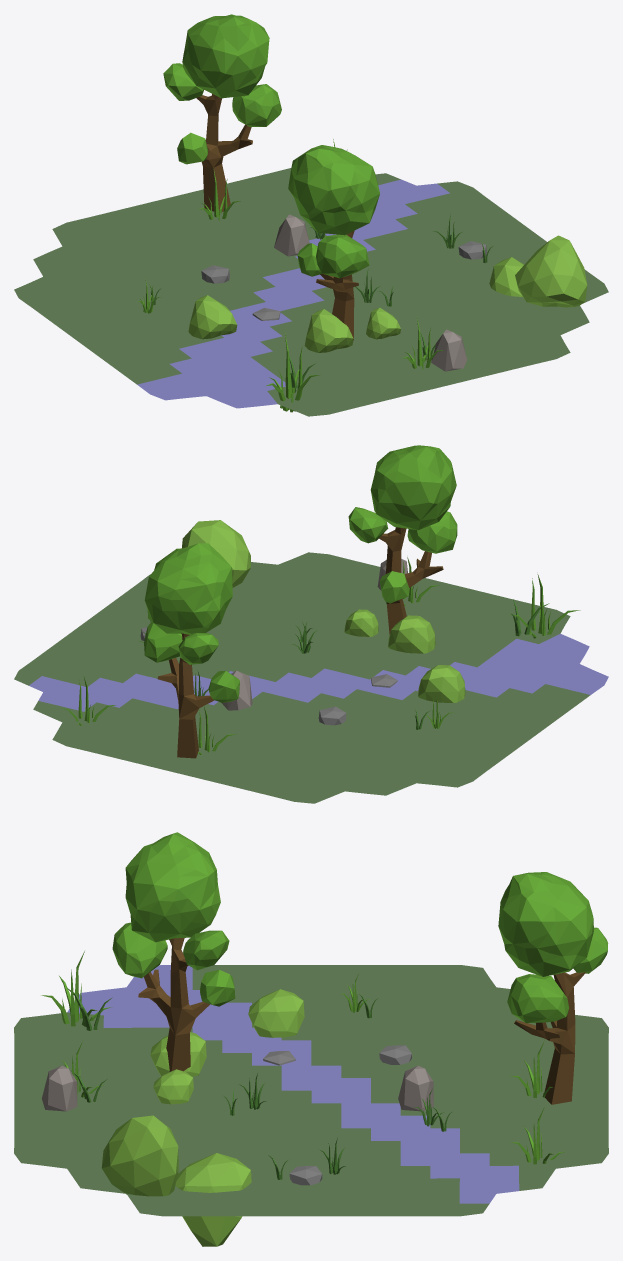
The model's file is Jungle.fbx.
3 renders of one model, top to bottom at view 1: azimuth 30°, elevation 25°; view 2: azimuth 150°, elevation 25°; view 3: azimuth 270°, elevation 25°, orthographic. The views are drawn at different scales.
Visible parts, largest first — view 1: group6; view 2: group6; view 3: group6.
Boxes of the visible parts, x1=… form: group6: x1=14, y1=14, x2=608, y2=416; group6: x1=14, y1=445, x2=608, y2=803; group6: x1=14, y1=832, x2=608, y2=1246.
Bounding box in the file's own units: 50.95 × 26.54 × 50.95.
